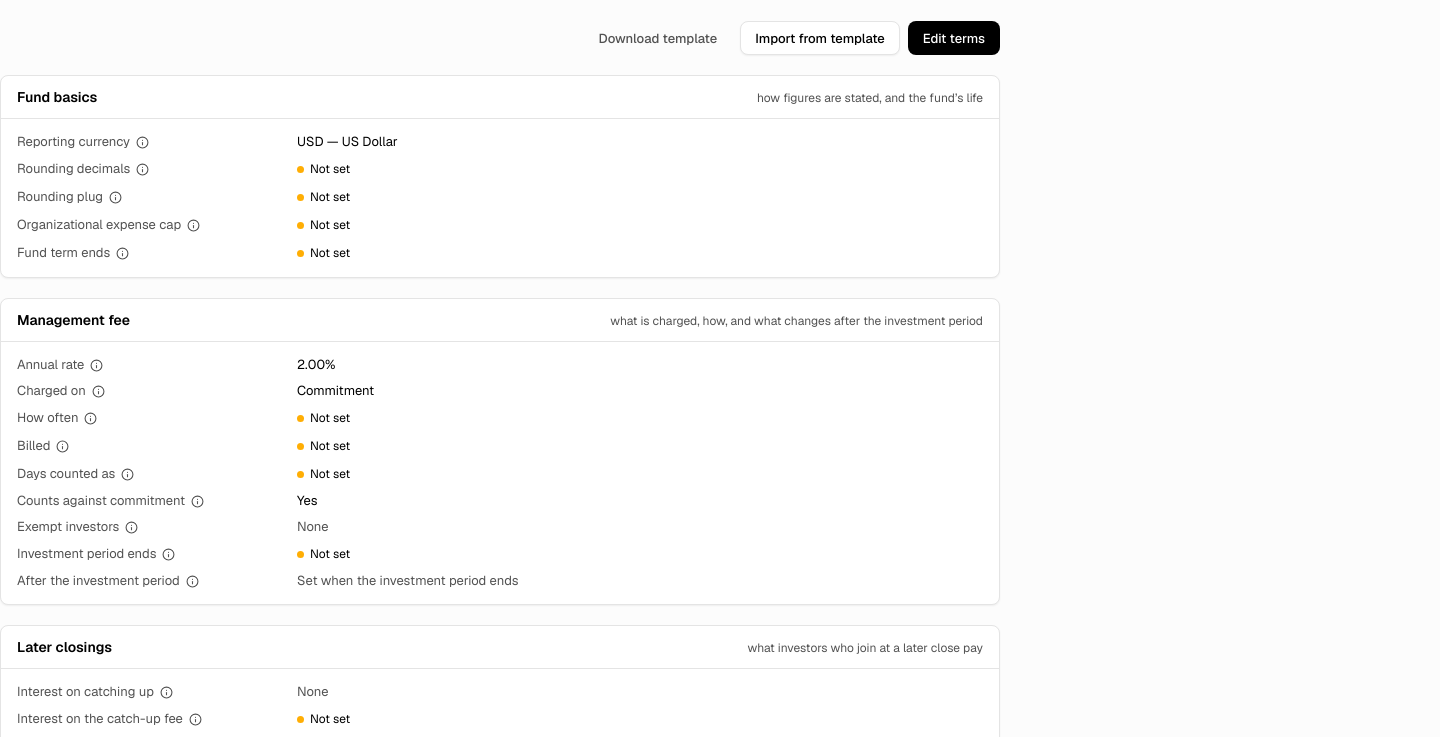
recording a change › records the fee after the investment period as its own change, from the day after
The width and height of the screenshot is (1440, 737).
Click the button "Edit terms": (954, 38) [908, 21, 1000, 55]
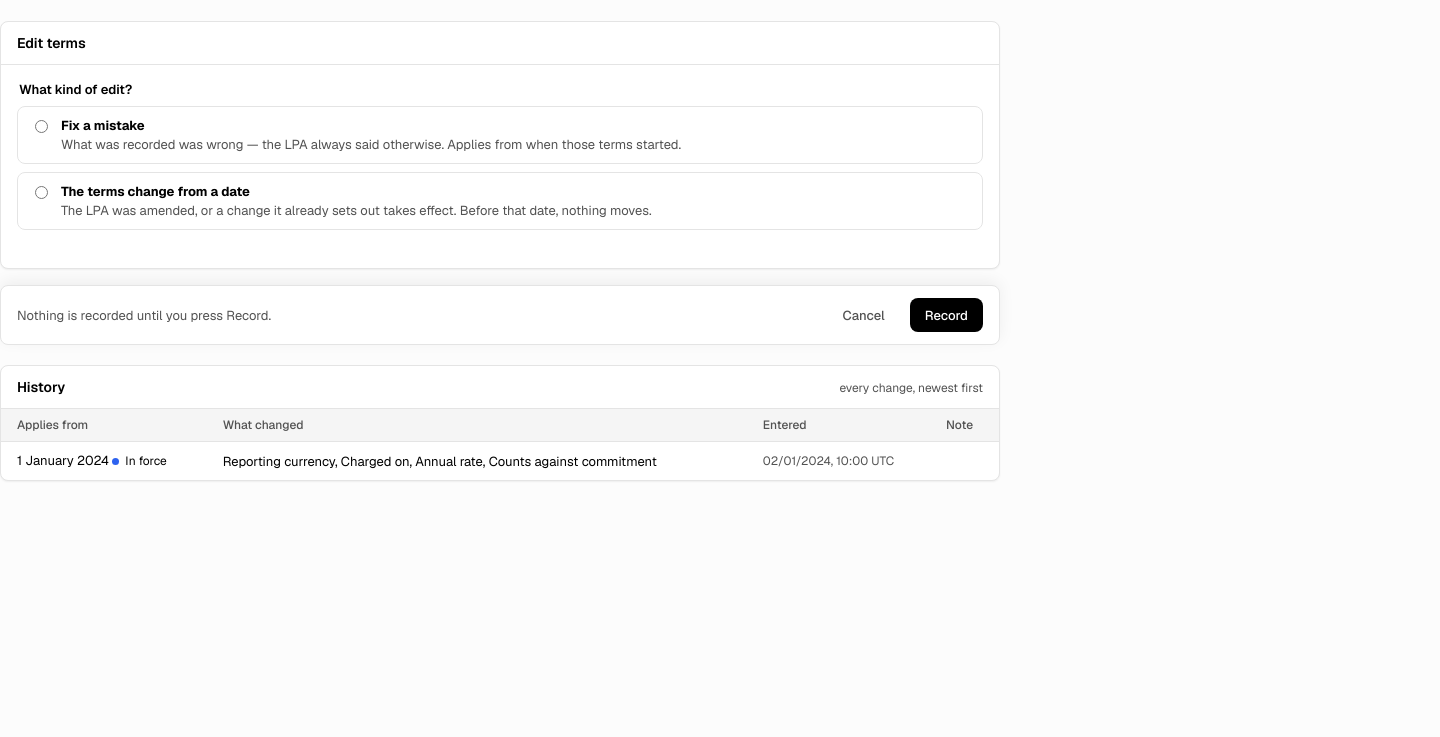
Click the radio button labelled "The terms change from a date": (42, 192) [35, 186, 48, 199]
(page scrolled)
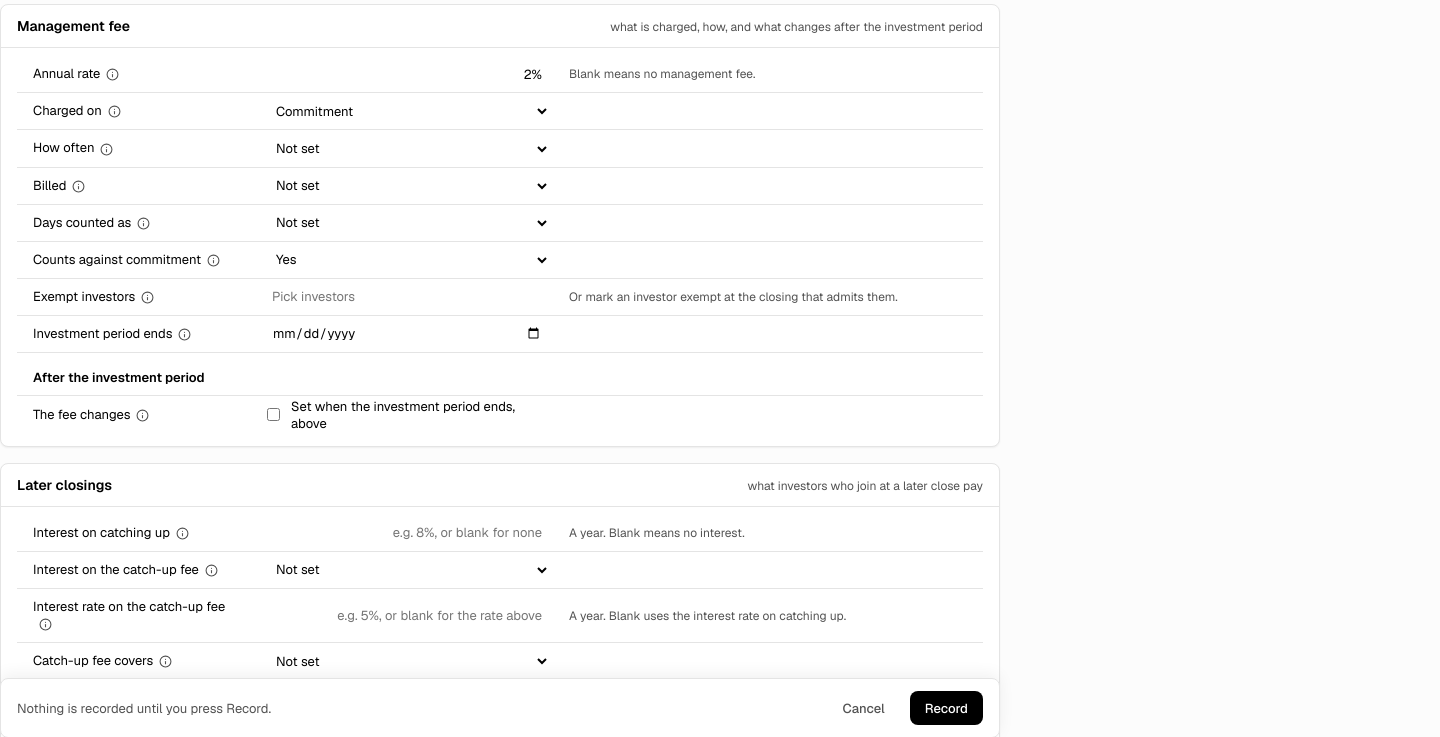
In the date field named "Investment period ends": (407, 334) [263, 319, 551, 349], type "2028-12-31"
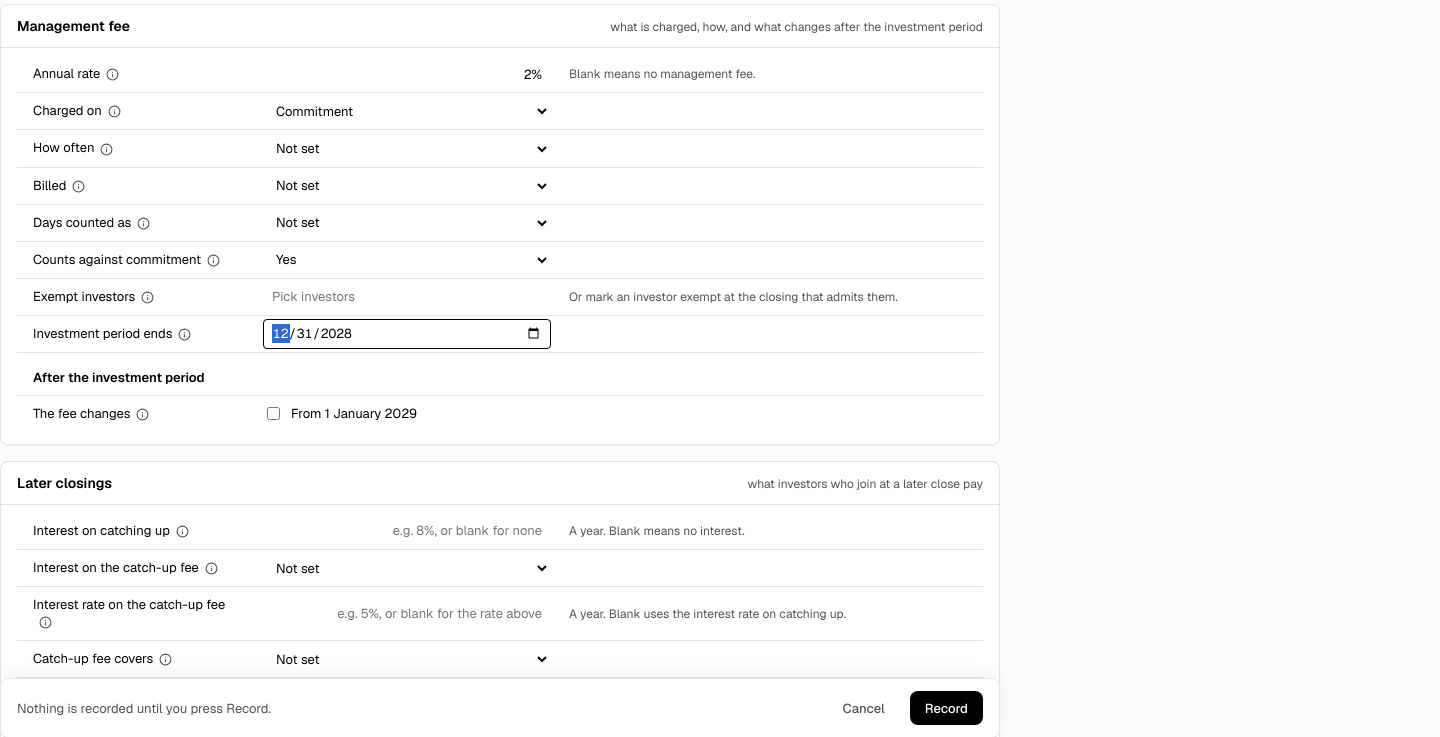
Click the checkbox: (274, 413) [267, 407, 280, 420]
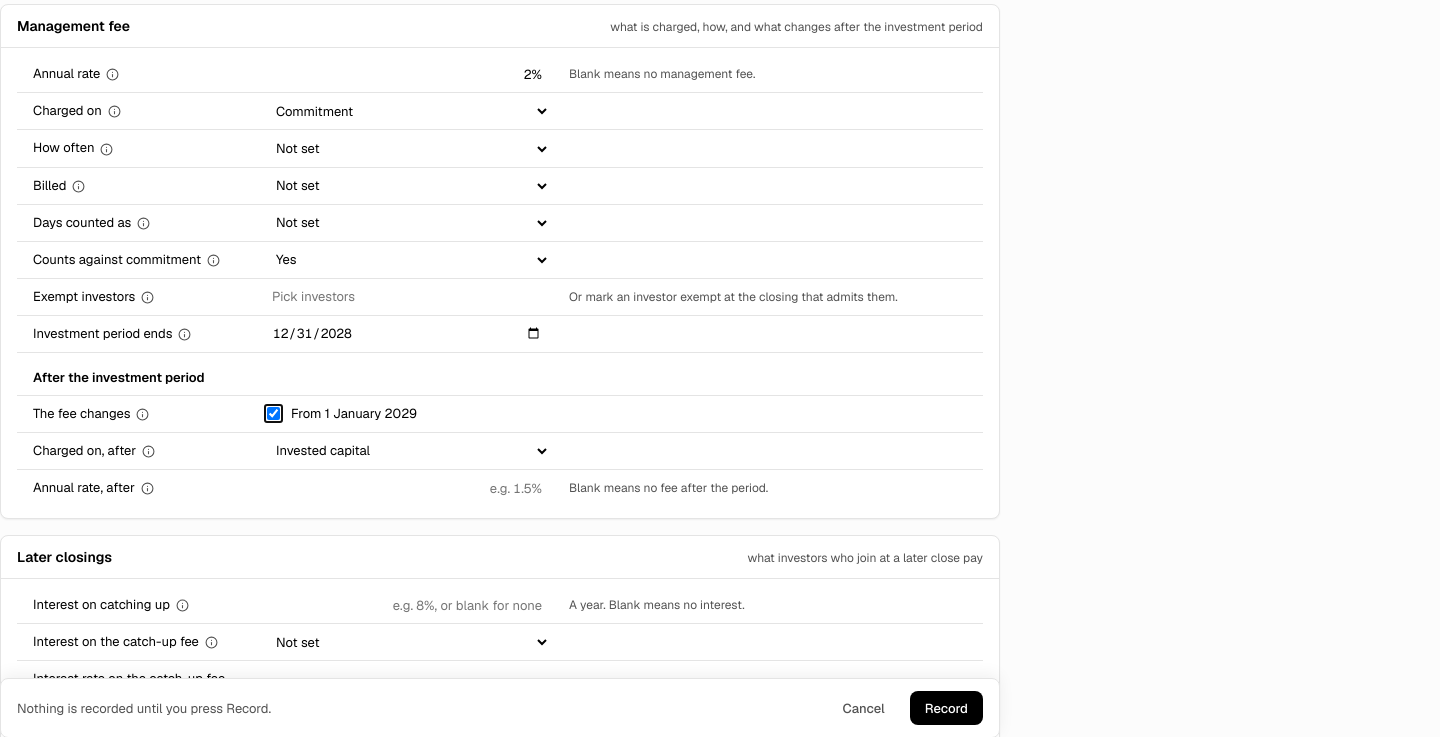
Select "Invested capital" in the dropdown named "Fee basis after the investment period": (407, 451) [263, 436, 551, 466]
In the field named "Annual rate after the investment period": (407, 488) [263, 473, 551, 503], type "0.015"
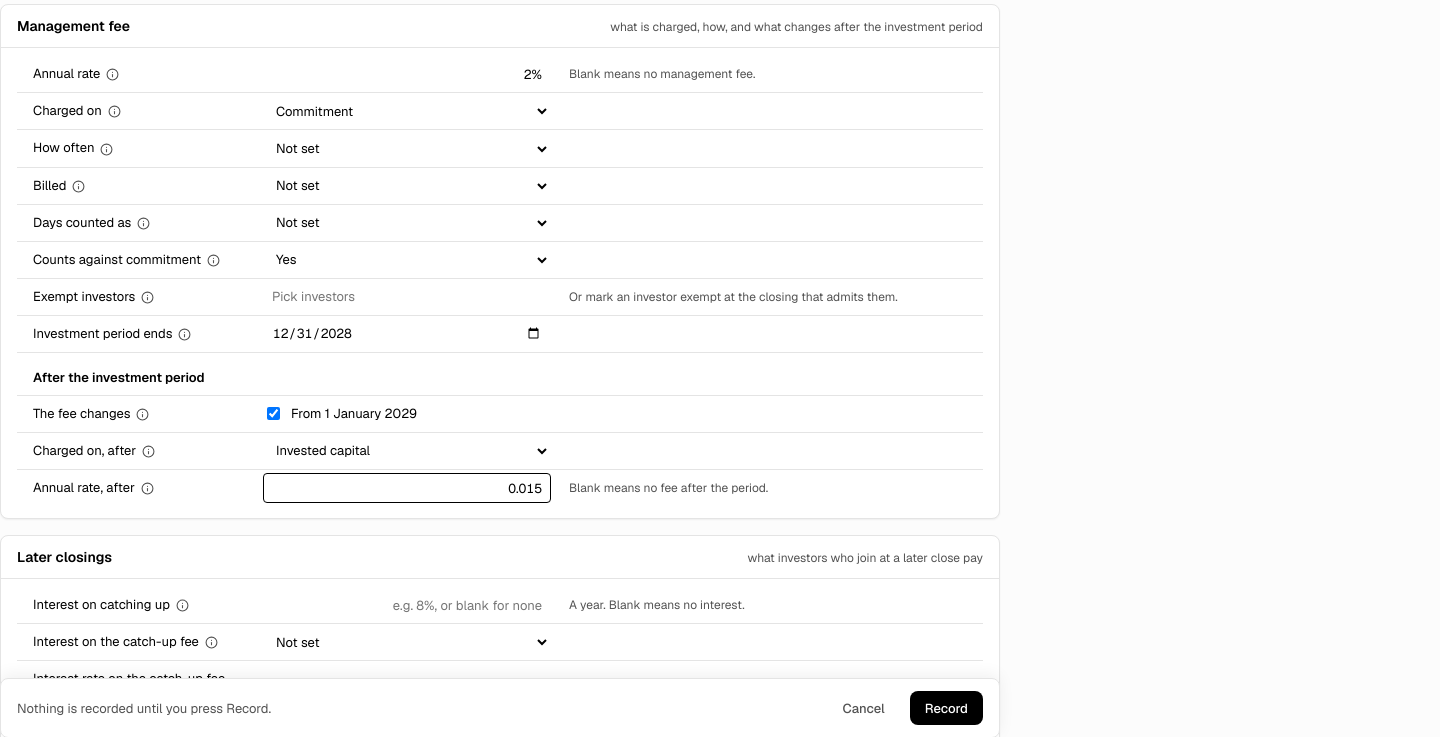
Click the button "Record": (946, 708) [910, 691, 983, 725]
(page scrolled)
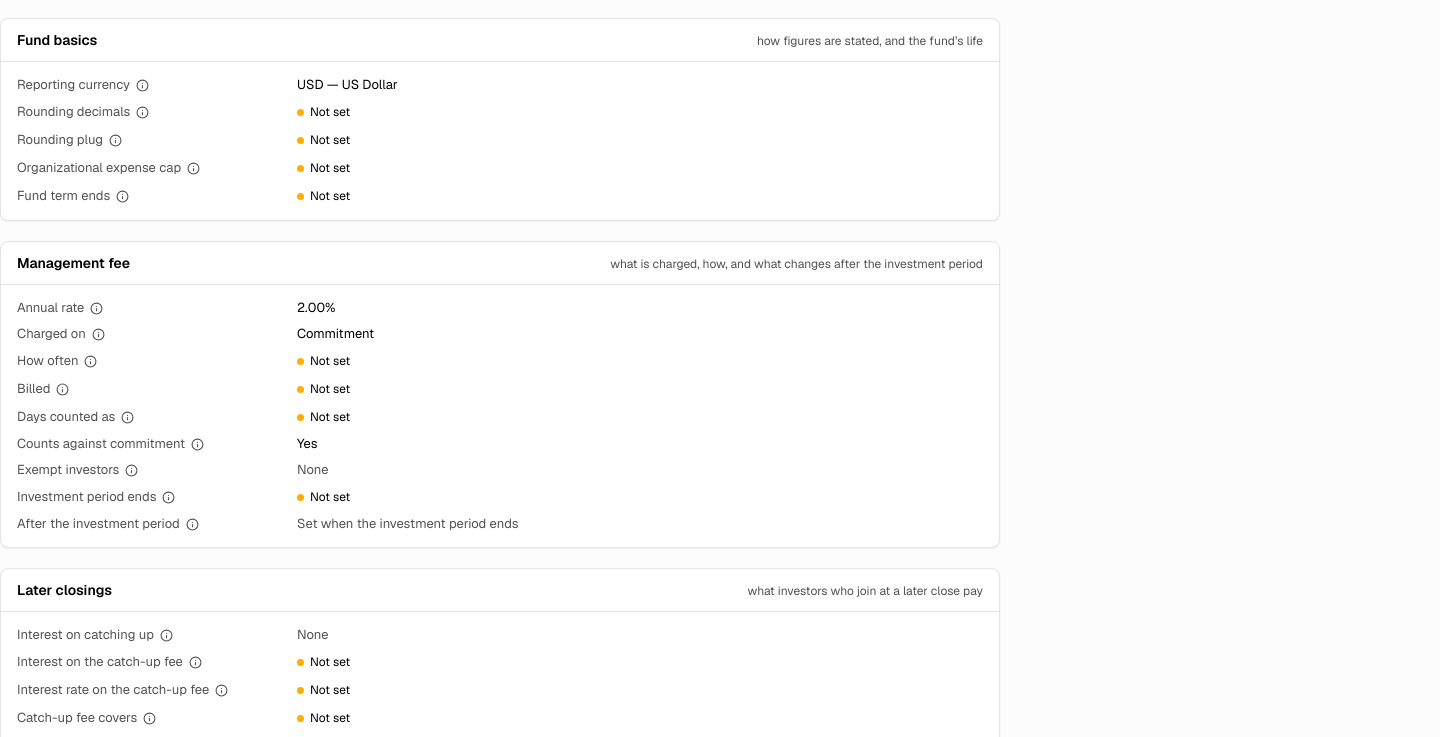
Check: the text "Commitment" is shown, box [297, 325, 374, 342]
